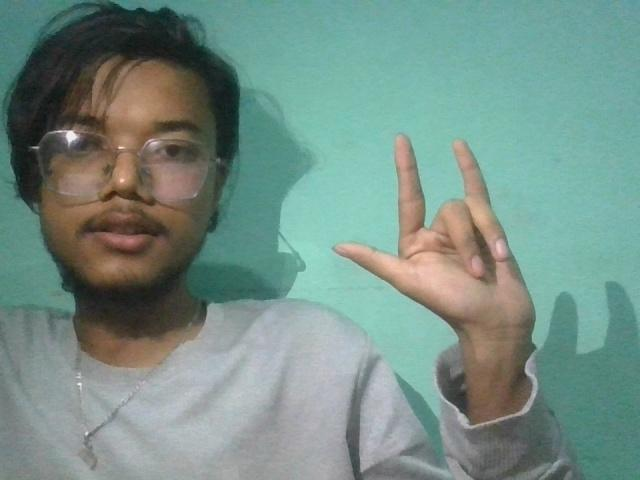I Love You: (321, 126, 585, 359)
